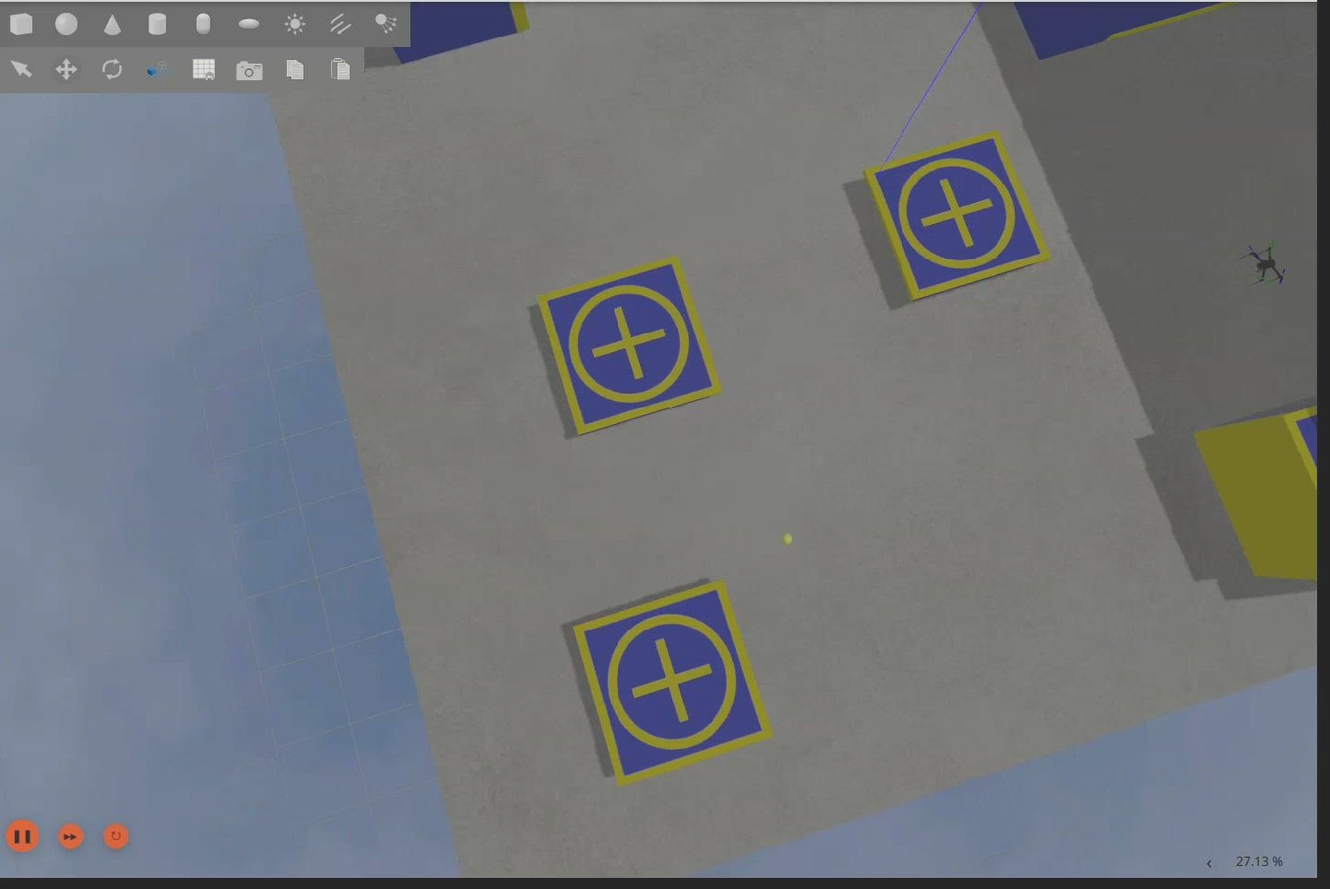small_base: (568, 583, 774, 782), (537, 260, 730, 433), (869, 138, 1052, 299)
